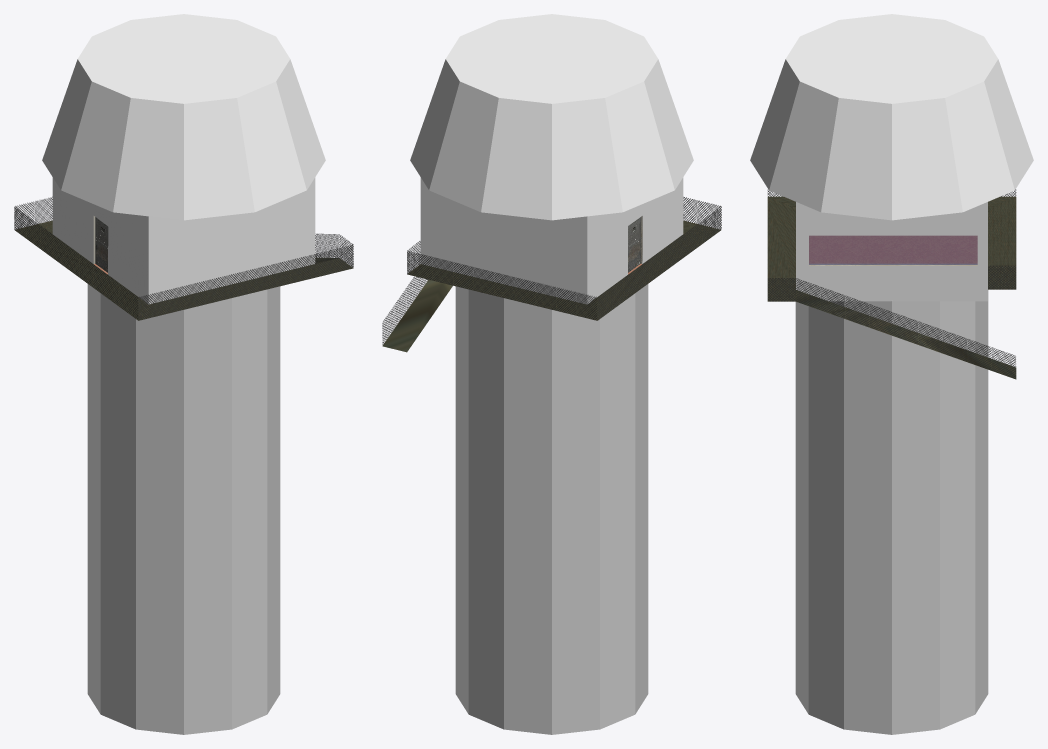
File: tower.glb
The picture shows the model from 3 angles, left to right: view 1: azimuth 30°, elevation 25°; view 2: azimuth 150°, elevation 25°; view 3: azimuth 270°, elevation 25°; orthographic projection.
Visible parts, largest first — view 1: Cylinder, Ground2, Door; view 2: Cylinder, Ground2, Door; view 3: Cylinder, Ground2, Window.
Boxes of the visible parts, left/top/right/bottom form: Cylinder: left=87, top=284, right=280, bottom=734; Ground2: left=14, top=14, right=353, bottom=320; Door: left=95, top=217, right=108, bottom=272; Cylinder: left=455, top=284, right=648, bottom=734; Ground2: left=382, top=14, right=721, bottom=352; Door: left=628, top=217, right=640, bottom=272; Cylinder: left=795, top=290, right=988, bottom=734; Ground2: left=750, top=14, right=1033, bottom=379; Window: left=809, top=235, right=977, bottom=264.
Size of the model in its own units: 22.14 by 54.7 by 22.14.
8 materials, 6 textured.
